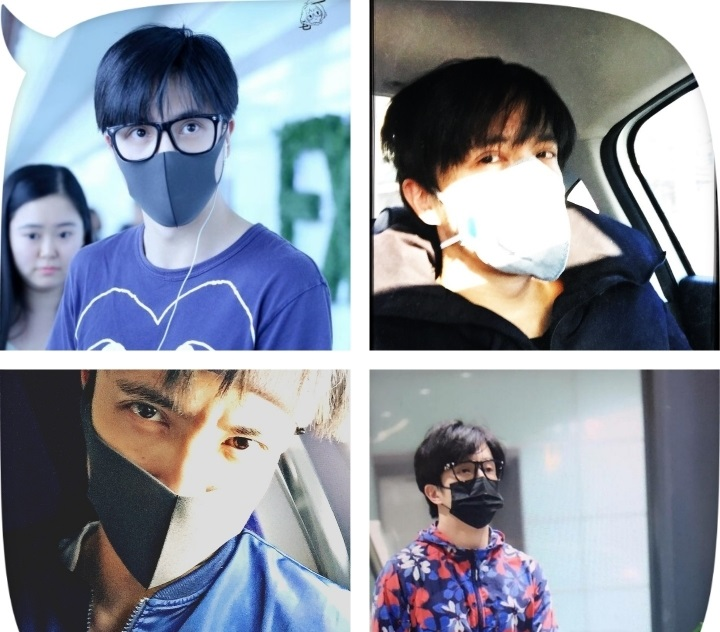face: (10, 199, 83, 286)
face_mask: (87, 347, 286, 578), (439, 94, 568, 273), (113, 73, 224, 225), (445, 445, 502, 522)
